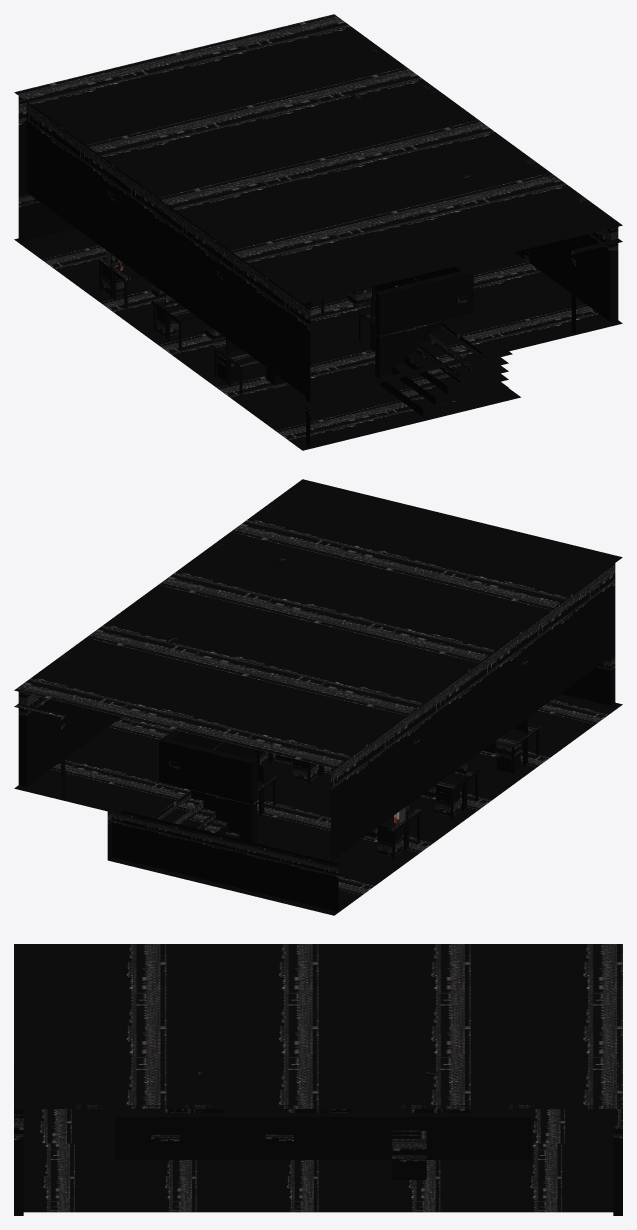
The model's file is room2offices2_opt.obj.
3 views of the same model, one above another, from view 1: azimuth 30°, elevation 25°; view 2: azimuth 150°, elevation 25°; view 3: azimuth 270°, elevation 25° (orthographic). The views are drawn at different scales.
Size of the model in its own units: 1312 by 579 by 2048.
